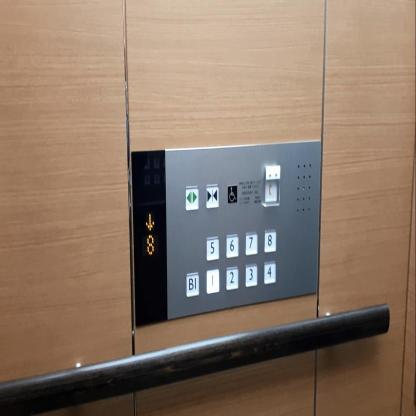1: (205, 267, 220, 295)
2: (224, 264, 240, 292)
3: (244, 262, 258, 288)
4: (262, 258, 277, 286)
5: (205, 234, 220, 263)
6: (224, 231, 240, 260)
7: (244, 229, 258, 257)
8: (263, 227, 277, 255)
B1: (186, 270, 200, 298)
CH: (226, 183, 238, 205)
call: (263, 162, 281, 209)
close: (205, 182, 220, 210)
led: (130, 146, 168, 331)
open: (184, 184, 200, 212)
